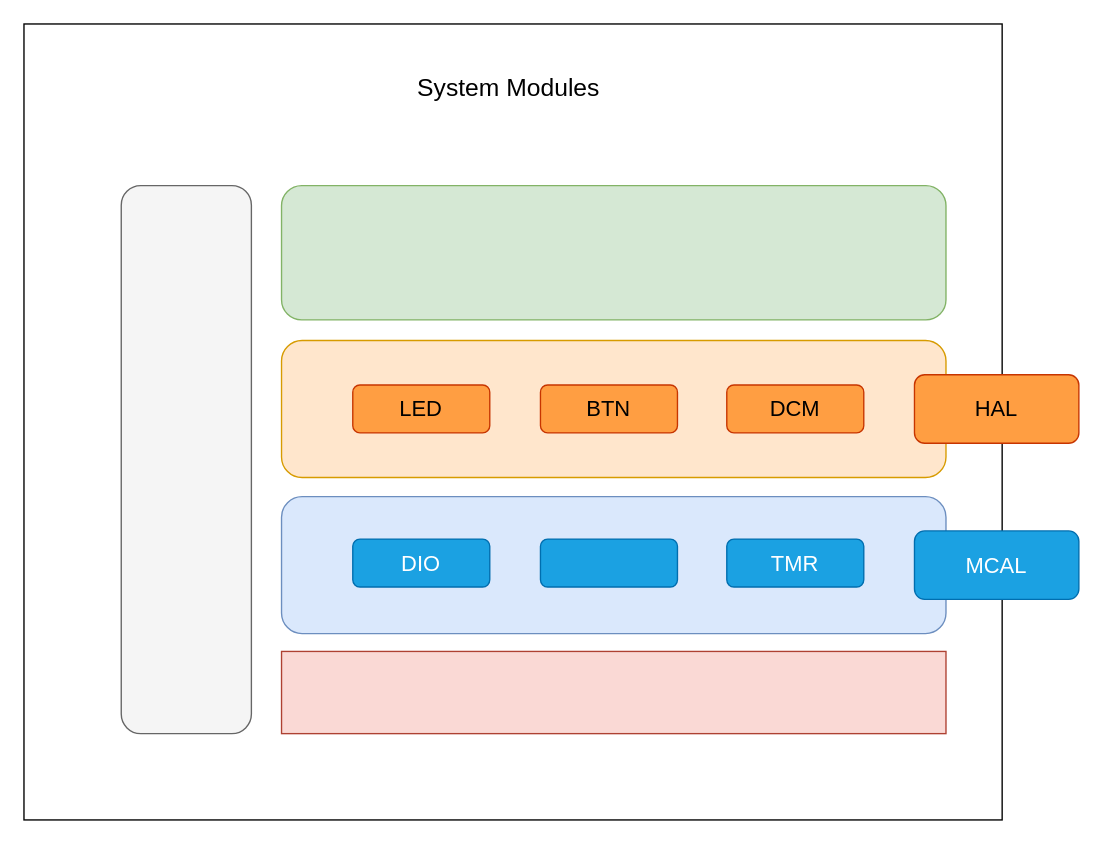
The diagram is 1103 pixels wide and 844 high, and some of its shapes have lost their labels. The shapes that lost their labels are listed below. From the top down, each one's centre as x and y in pixels, then its label:
At pixel 613 252: "Application Layer".
At pixel 185 459: "Library".
At pixel 608 562: "EXI".
At pixel 613 692: "Microcontroller".
